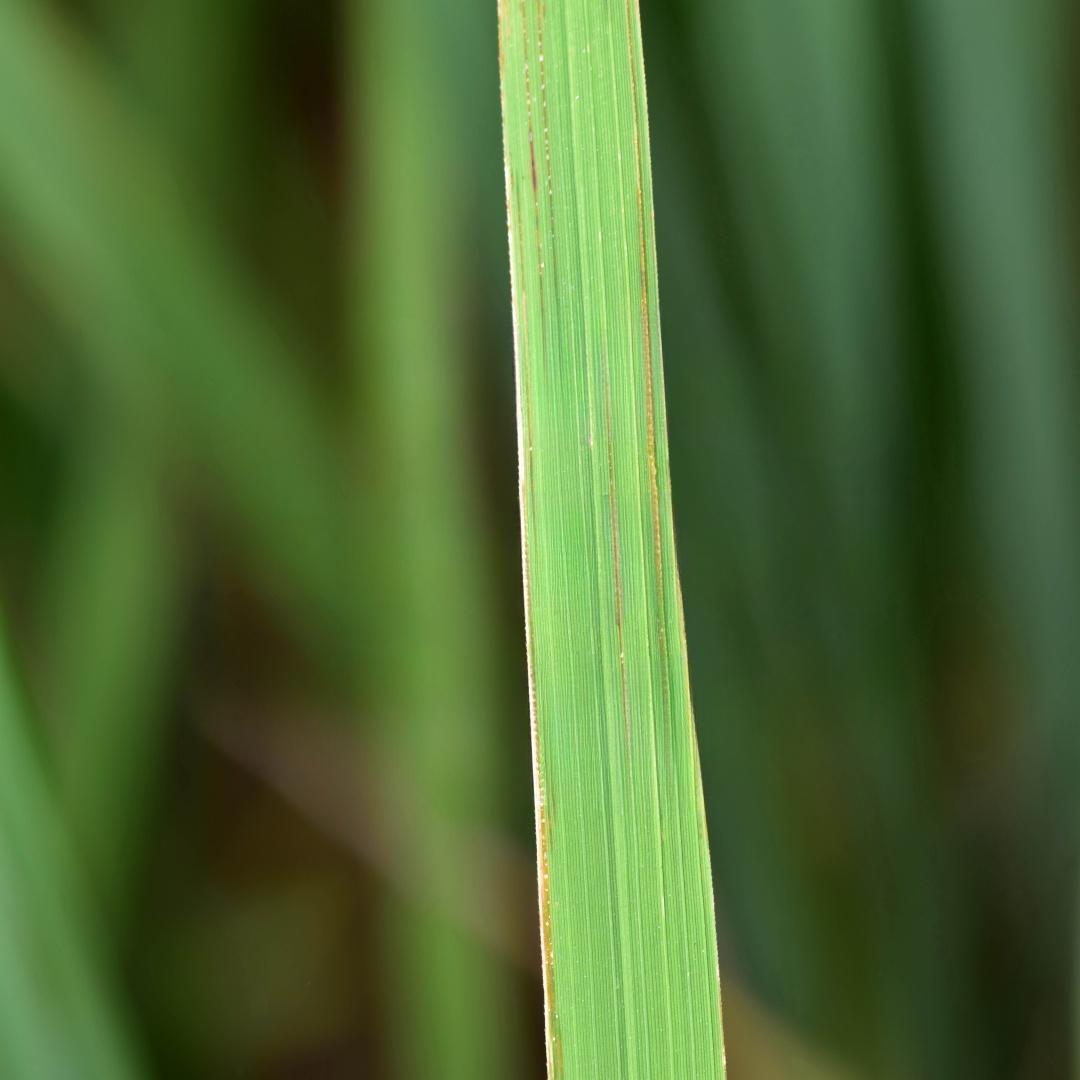BLS: (497, 0, 565, 1079), (624, 0, 670, 672), (667, 459, 711, 864), (519, 1, 545, 396), (603, 365, 625, 683), (536, 0, 558, 265), (517, 208, 533, 492), (547, 803, 552, 855)
